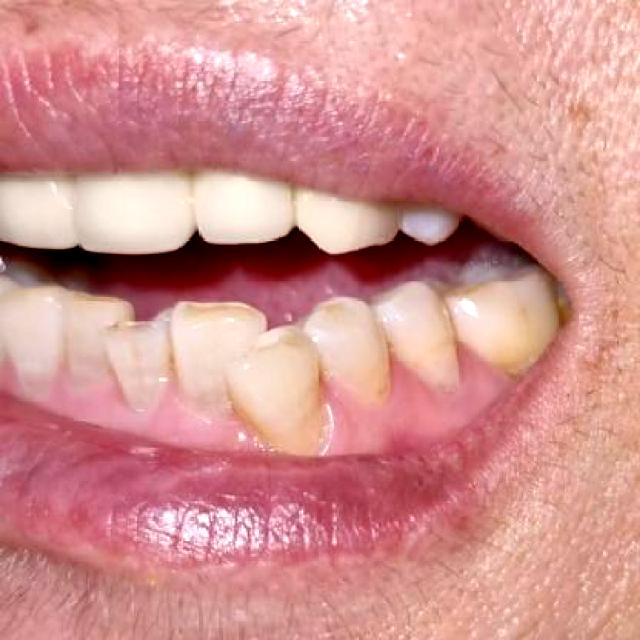Plaque: (321, 374, 368, 452), (454, 339, 506, 398), (389, 352, 433, 412), (145, 370, 183, 435), (208, 409, 265, 452), (90, 368, 129, 422), (44, 366, 82, 410), (0, 360, 24, 399)
